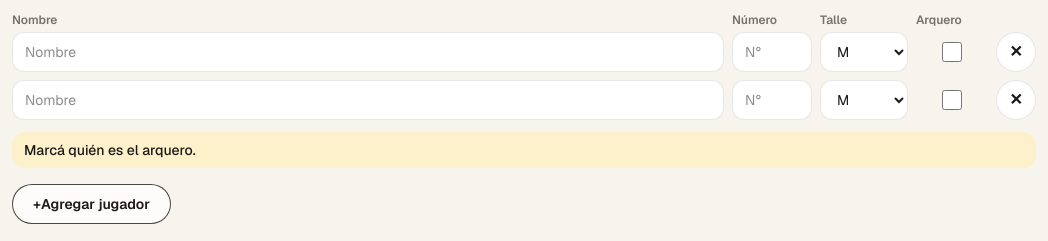
RosterTable keeper › marks who plays in goal
Expected: the message reads "Marcá quién es el arquero.", [24,141,196,159]
Click the checkbox named "Arquero: jugador 2": click(952, 100) [942,90,962,110]
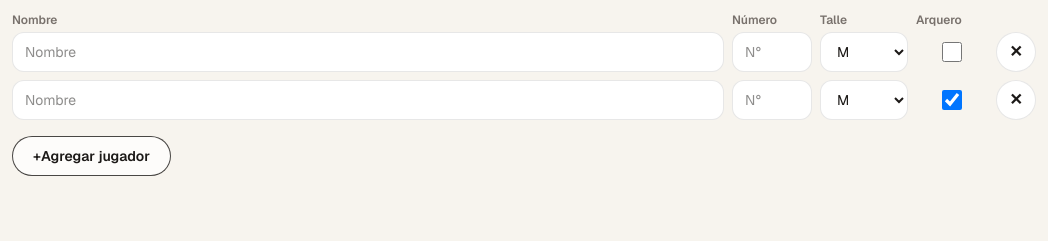
Expected: the checkbox named "Arquero: jugador 1" is not checked, [942,42,962,62]
Expected: the checkbox named "Arquero: jugador 2" is checked, [942,90,962,110]
Expected: the text "Marcá quién es el arquero." is gone
